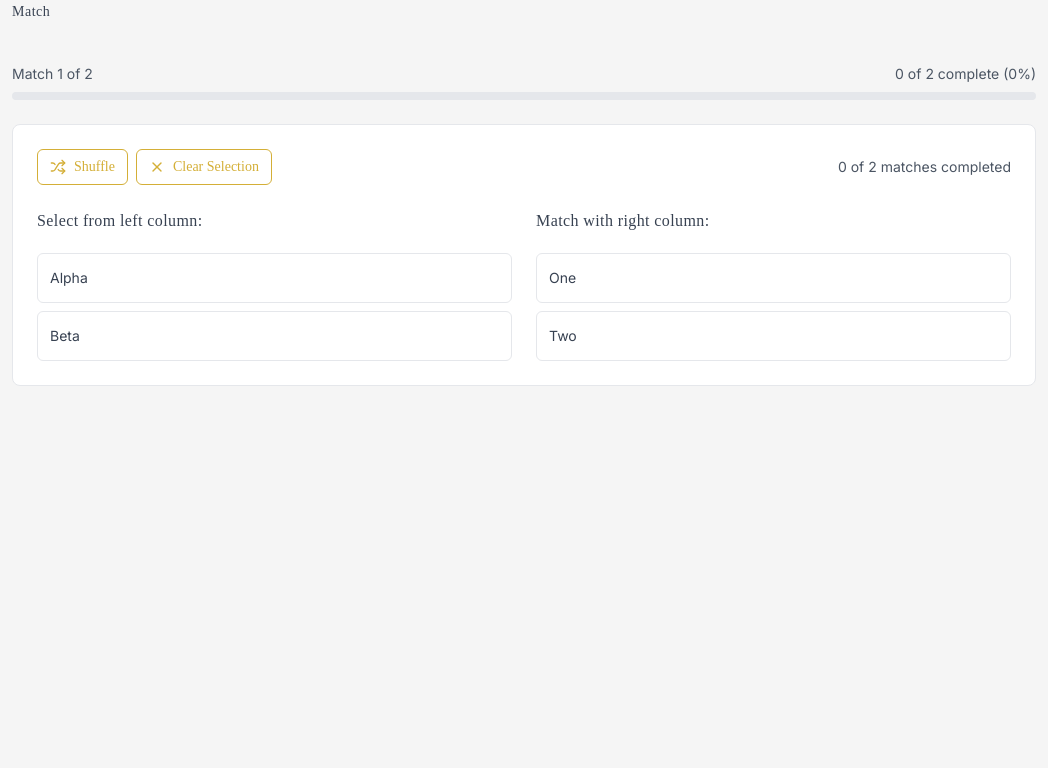
Scenario: exercise start over flow › keeps matching feedback visible at threshold and cancels the earlier clear timeout
Click the button "Alpha" at {"x": 69, "y": 278}, box [37,253,512,303]
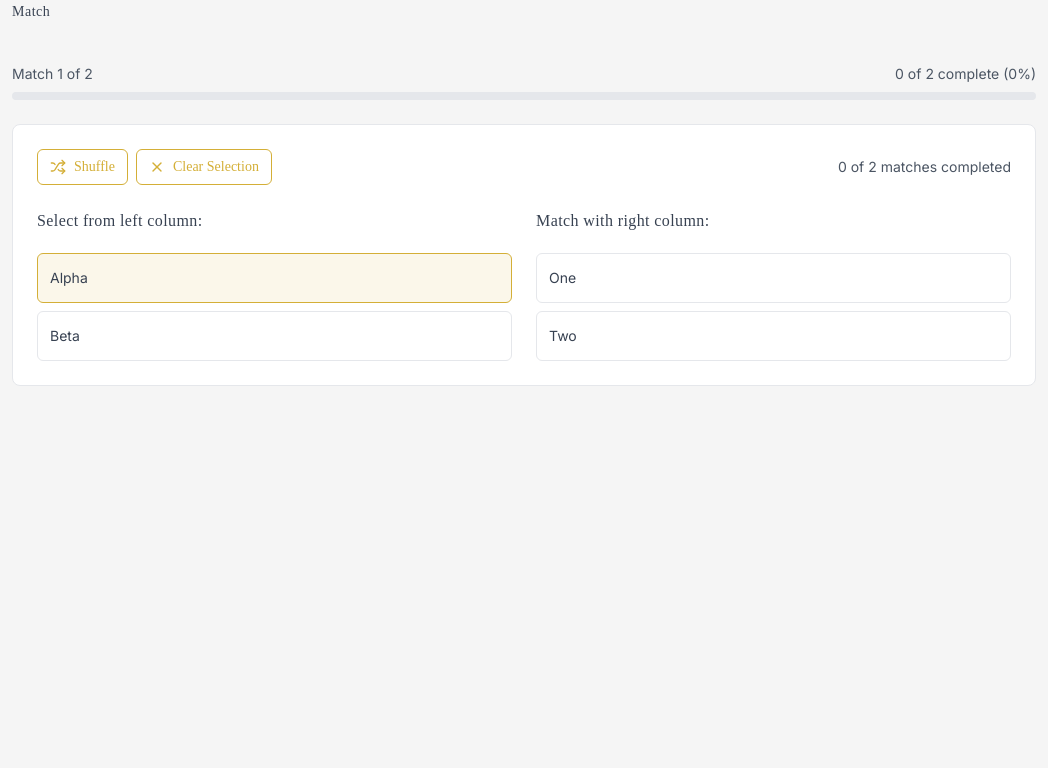
Click the button "Two" at {"x": 563, "y": 336}, box [536,311,1011,361]
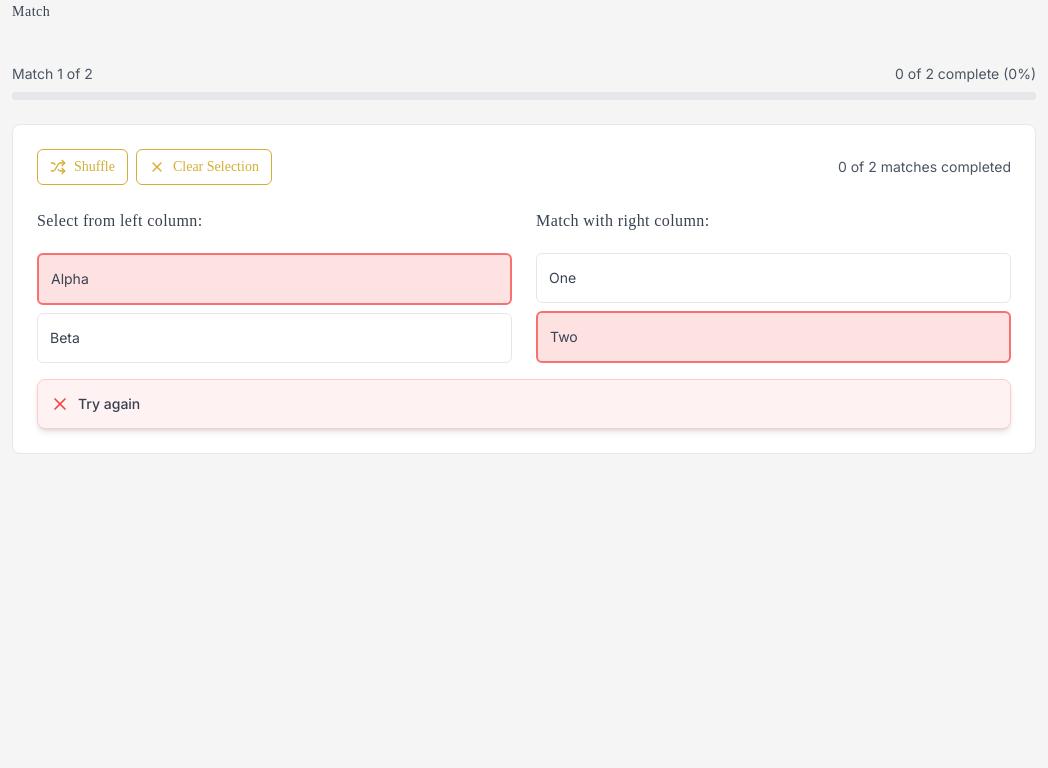
Click the button "Beta" at {"x": 65, "y": 338}, box [37,313,512,363]
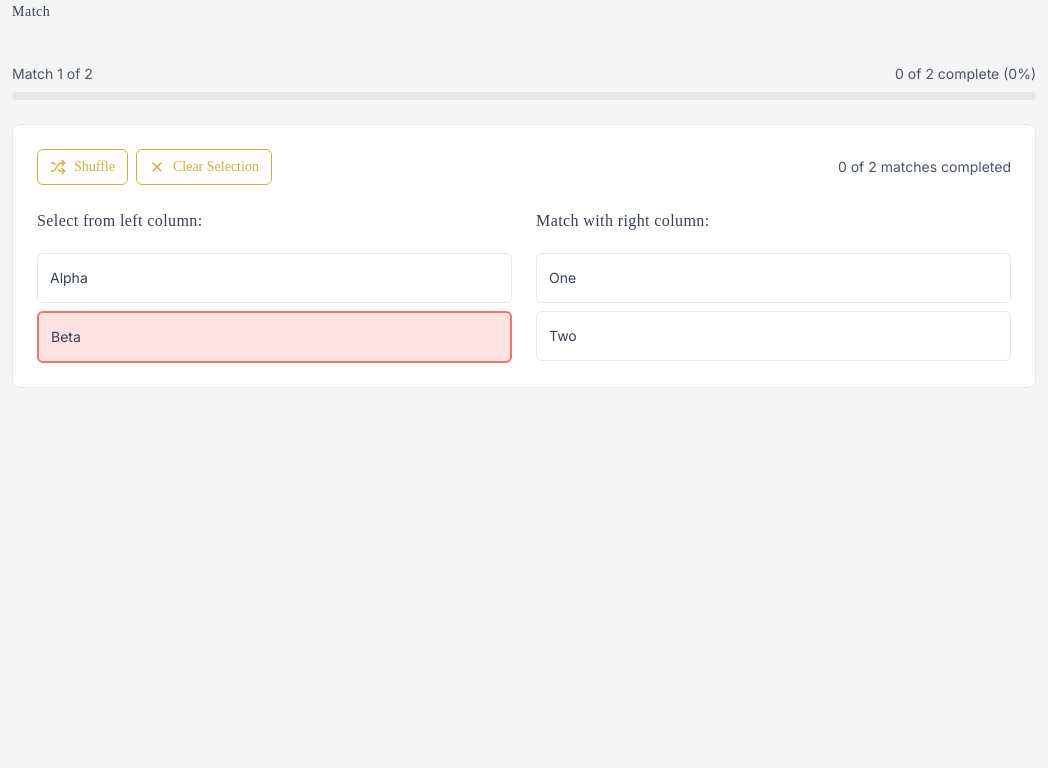
Click the button "One" at {"x": 563, "y": 278}, box [536,253,1011,303]
Wait 1500 ms
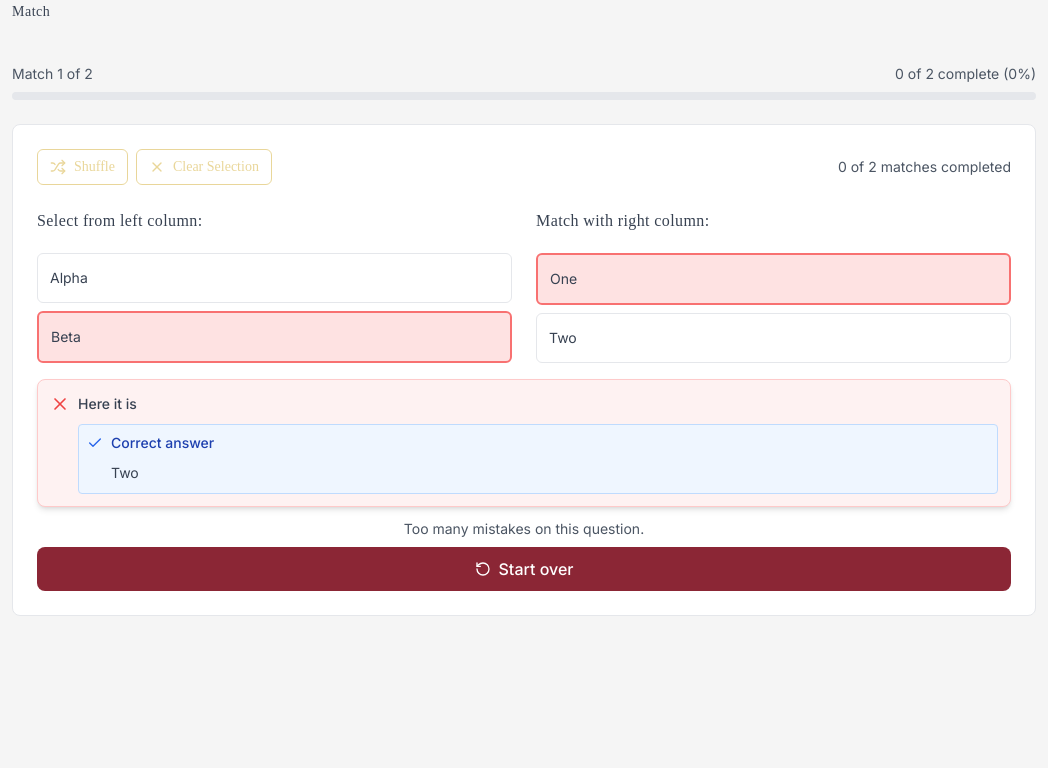
Result: the button "Start over" is shown
Result: the text "Correct answer" is shown at [111,434,214,451]
Result: the text "Here it is" is shown at [78,395,137,412]
Click the button "Start over" at {"x": 524, "y": 569}, box [37,547,1011,591]
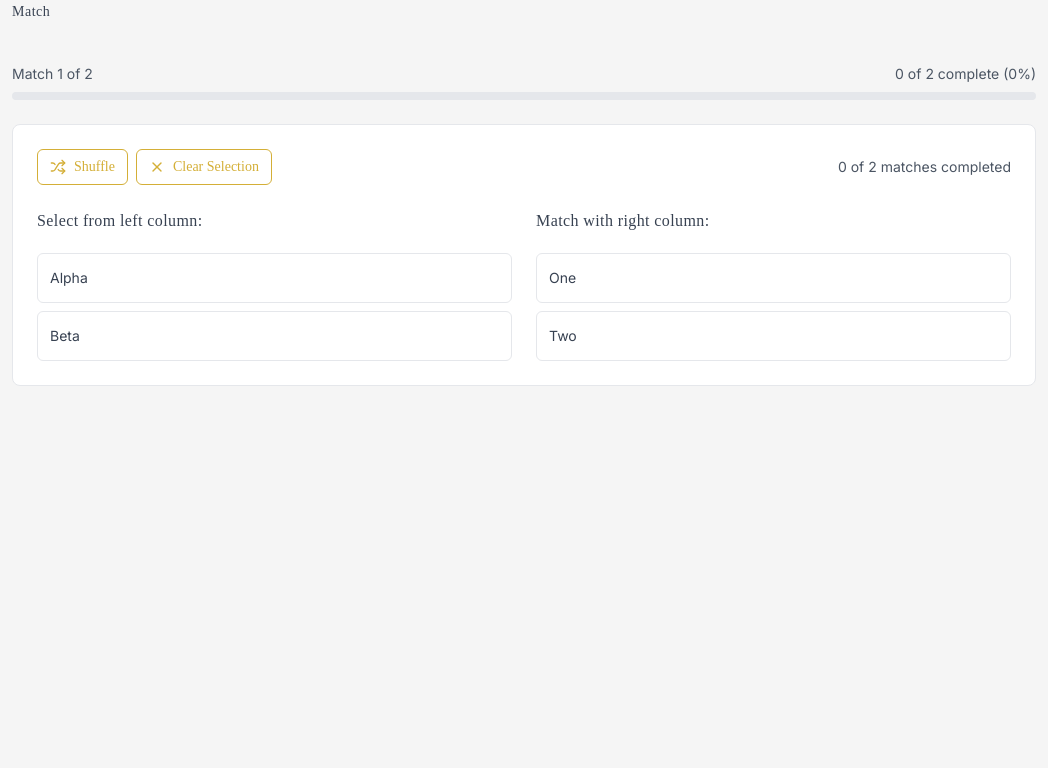
Expected: the button "Alpha" is enabled, [37,253,512,303]
Result: the text "Here it is" is gone
Result: the button "Shuffle" is enabled at [37,149,128,185]
